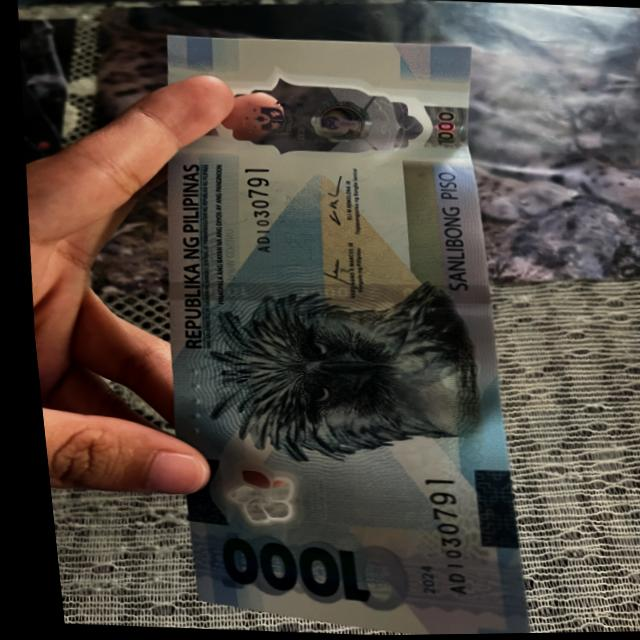clear_window: (201, 65, 433, 168)
eagle: (184, 268, 481, 454)
sampaguita: (200, 462, 343, 533)
security_thread: (163, 265, 482, 320)
serial_number: (388, 467, 476, 604), (223, 157, 287, 264)
value_watermark: (418, 98, 462, 158)
